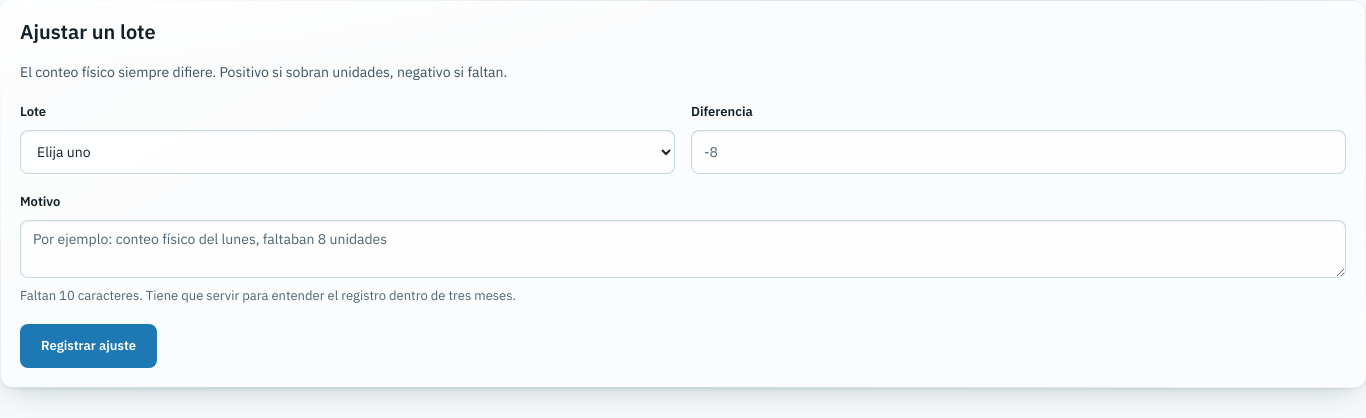
el contador de motivo, que está en los tres formularios › baja mientras se escribe
This screenshot has width=1366, height=418.
Type "conteo" into the text box labelled "Motivo" at (683, 249), box left=20, top=220, right=1346, bottom=278
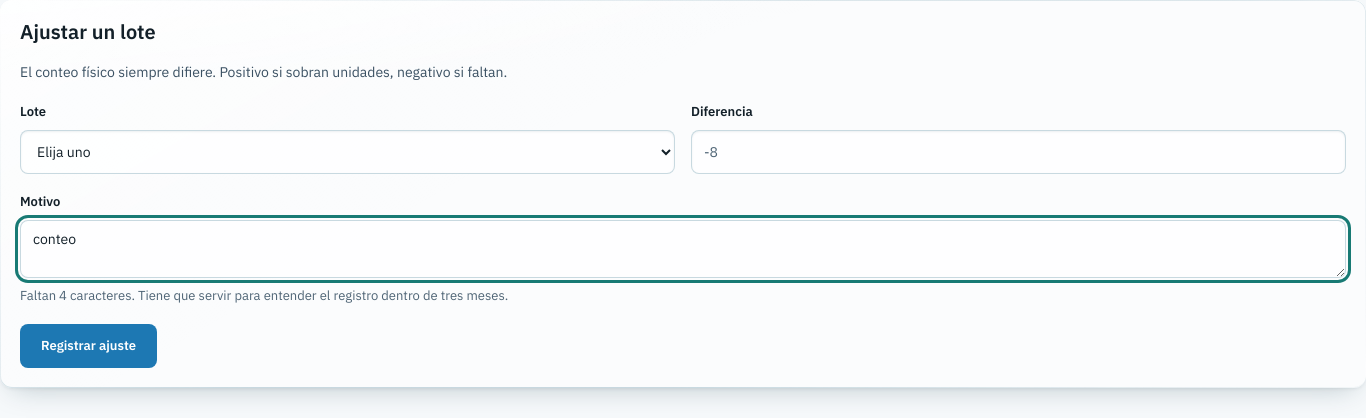
Now the text "Faltan 4 caracteres" is shown, box left=20, top=287, right=508, bottom=304
